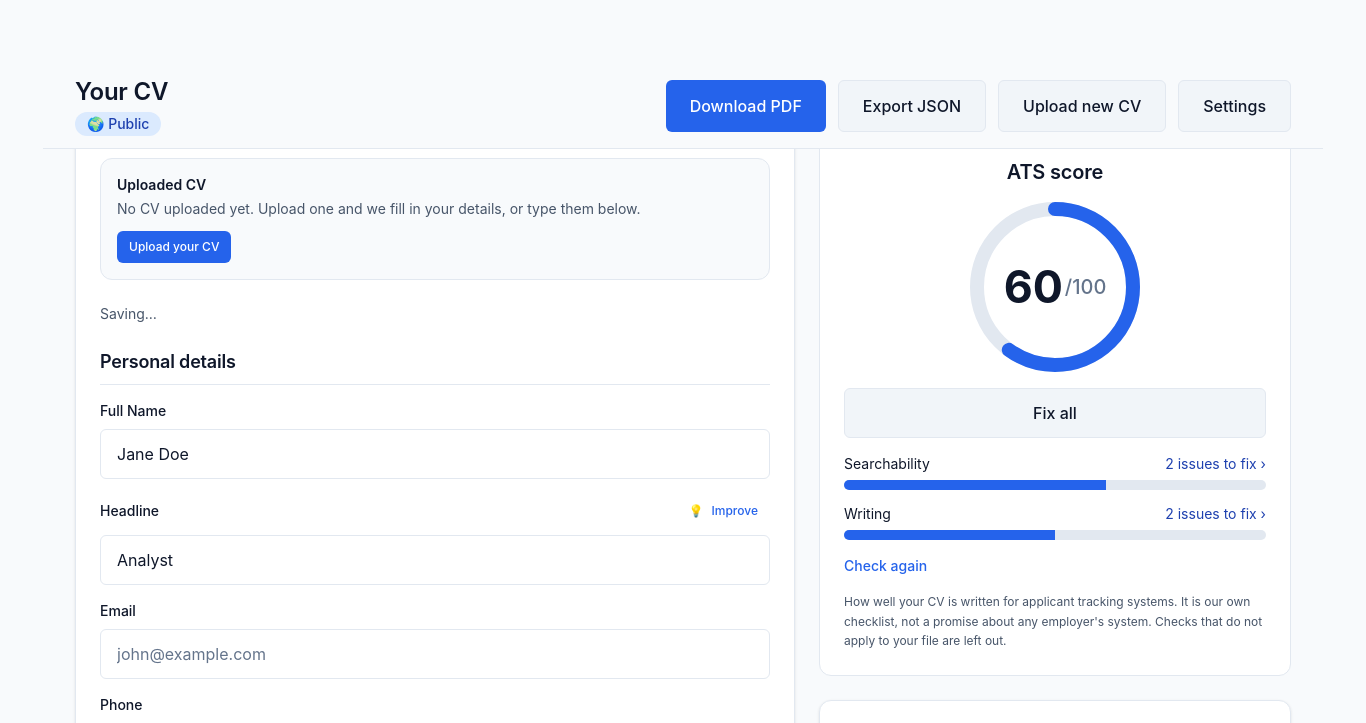
Test: Fixes offered by the ATS score panel › a Free user is sent to the job descriptions to use 💡 for wording issues; there is no Improve all
Click the button with aria-label "2 issues to fix in Writing" at (1216,514), box [1165,504,1266,524]
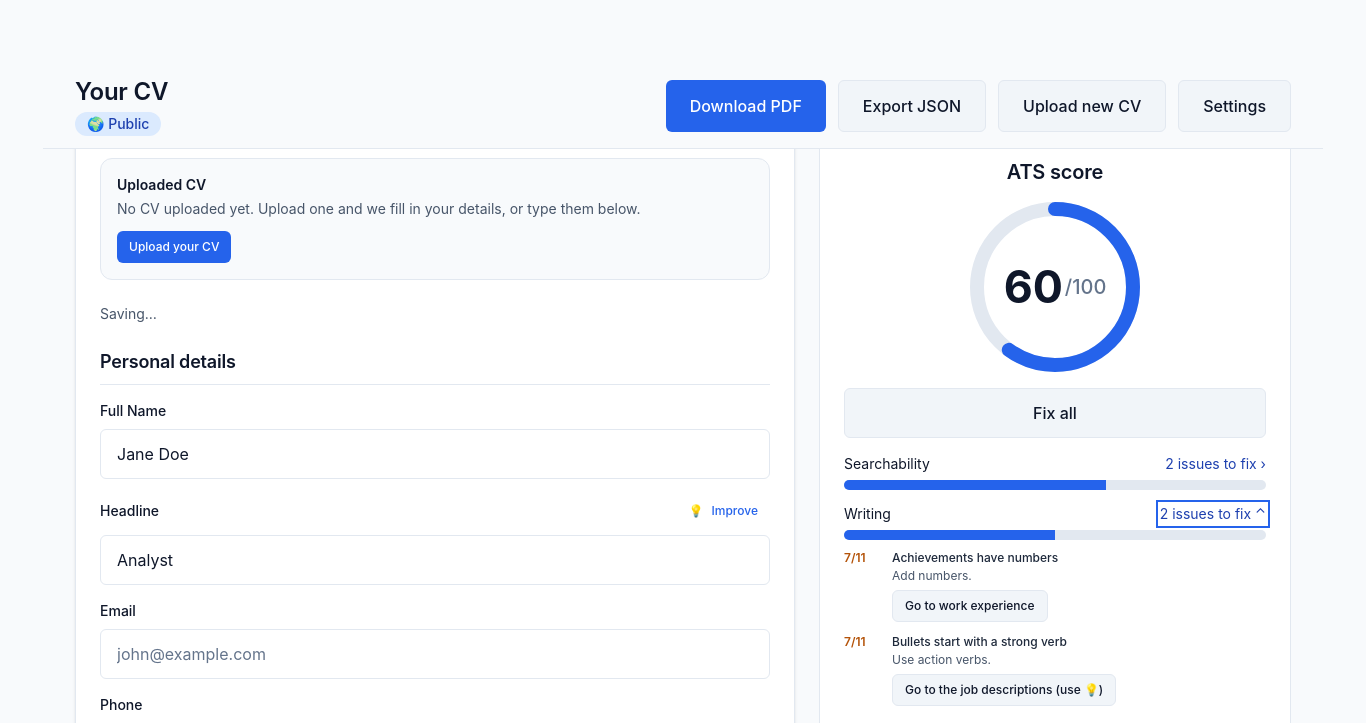
Result: the button "Go to the job descriptions (use 💡)" is shown at [892,674,1116,706]
